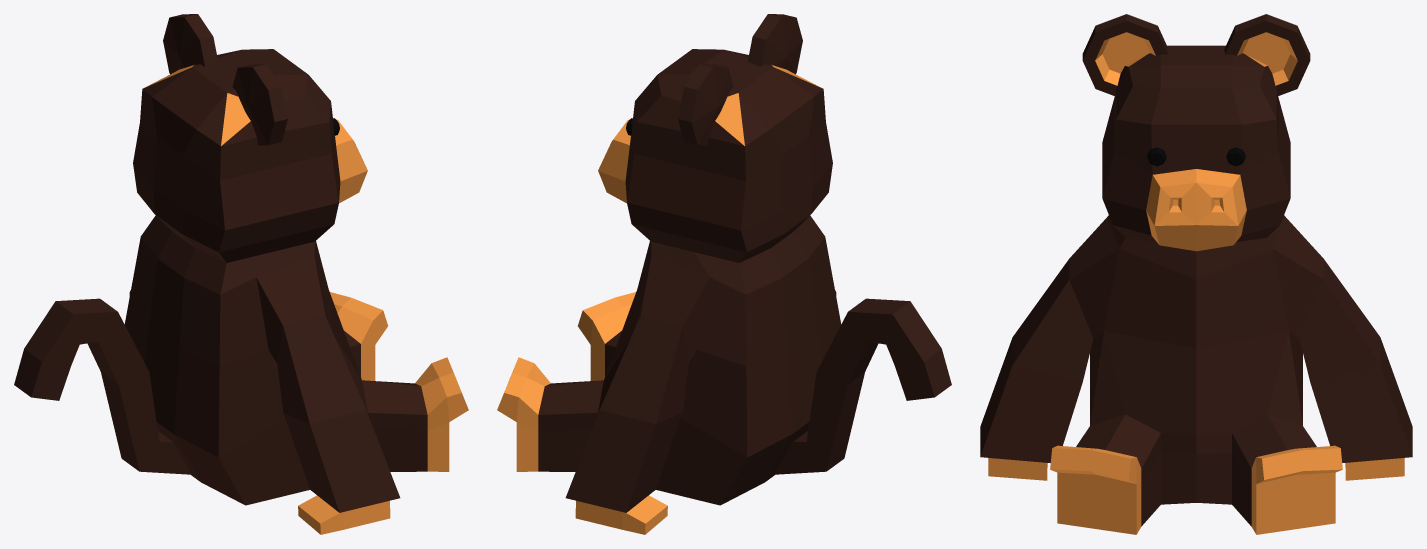
File: Monkey_01.obj
The picture shows the model from 3 angles, left to right: view 1: azimuth 30°, elevation 25°; view 2: azimuth 150°, elevation 25°; view 3: azimuth 270°, elevation 25°; orthographic projection. The views are drawn at different scales.
Parts seen in each view (by area): view 1: Monkey_01_Cube.042; view 2: Monkey_01_Cube.042; view 3: Monkey_01_Cube.042.
Boxes of the visible parts, bbox=[...] form: Monkey_01_Cube.042: bbox=[14, 14, 468, 534]; Monkey_01_Cube.042: bbox=[497, 14, 951, 534]; Monkey_01_Cube.042: bbox=[980, 14, 1412, 534].
Bounding box in the file's own units: 15.55 × 15.63 × 14.3.
